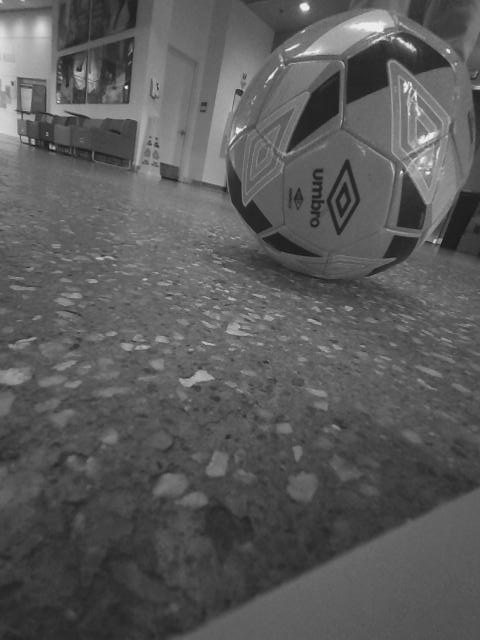ball: (219, 6, 478, 282)
